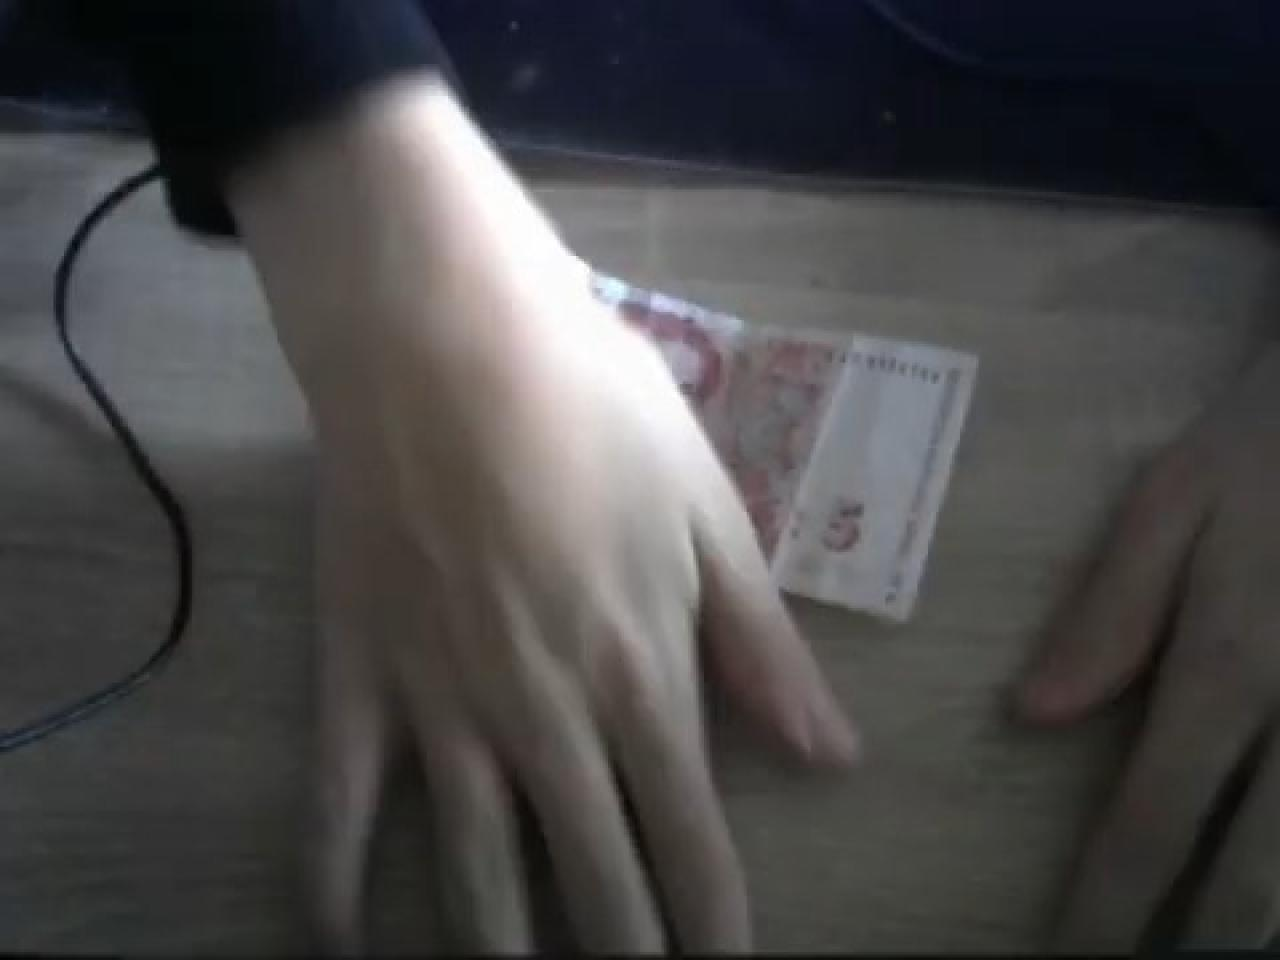5leva: (598, 280, 982, 626)
